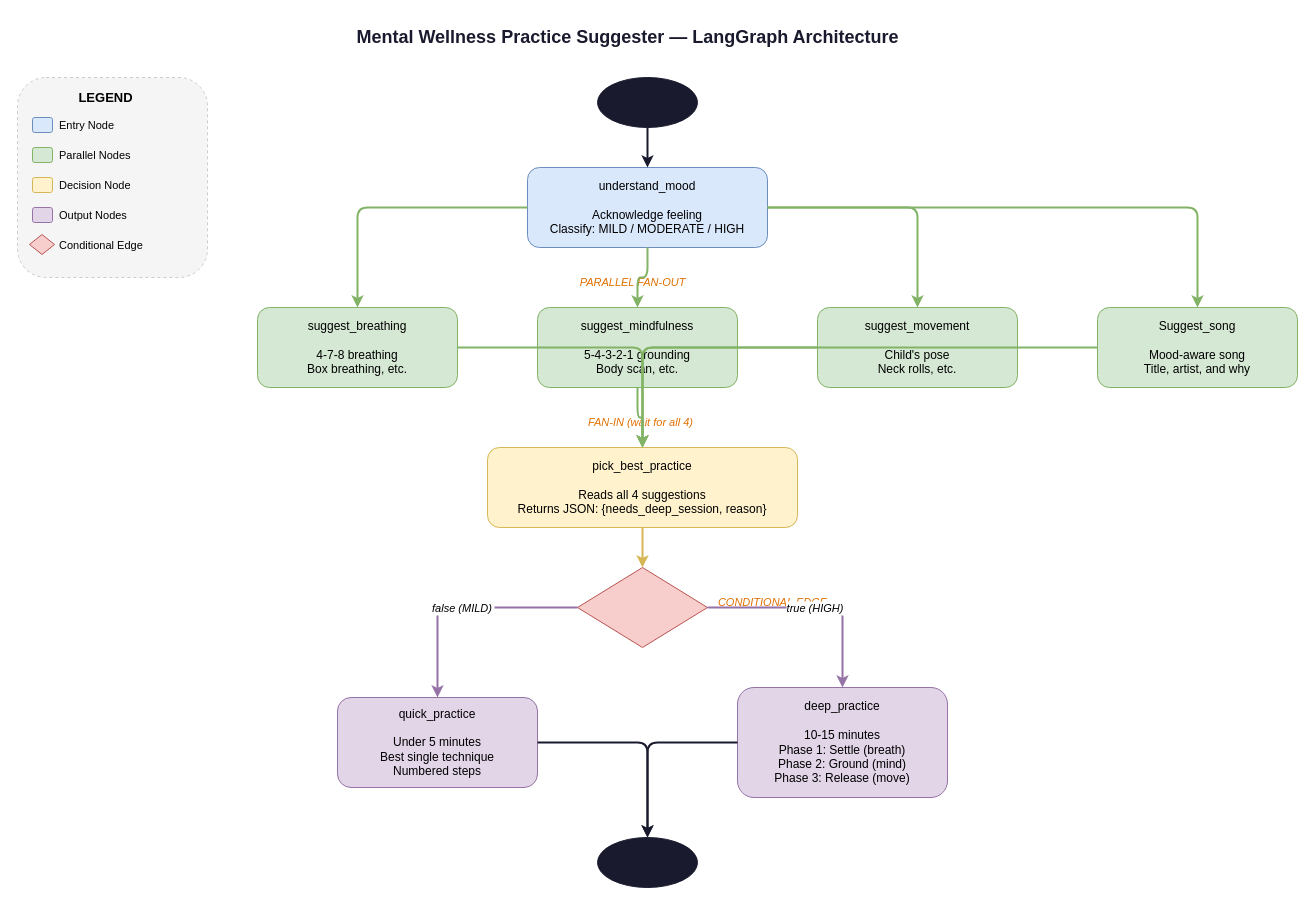
Some shapes in this 1315 by 905 pixel diagram are drawn without their labels. The shapes that lost their labels are listed below. From the top down, each one's box as (x1, y1, x2, y2) in pixels, then its label:
(596, 76, 698, 128): START
(576, 566, 708, 648): needs_deep _session?
(596, 836, 698, 888): END
